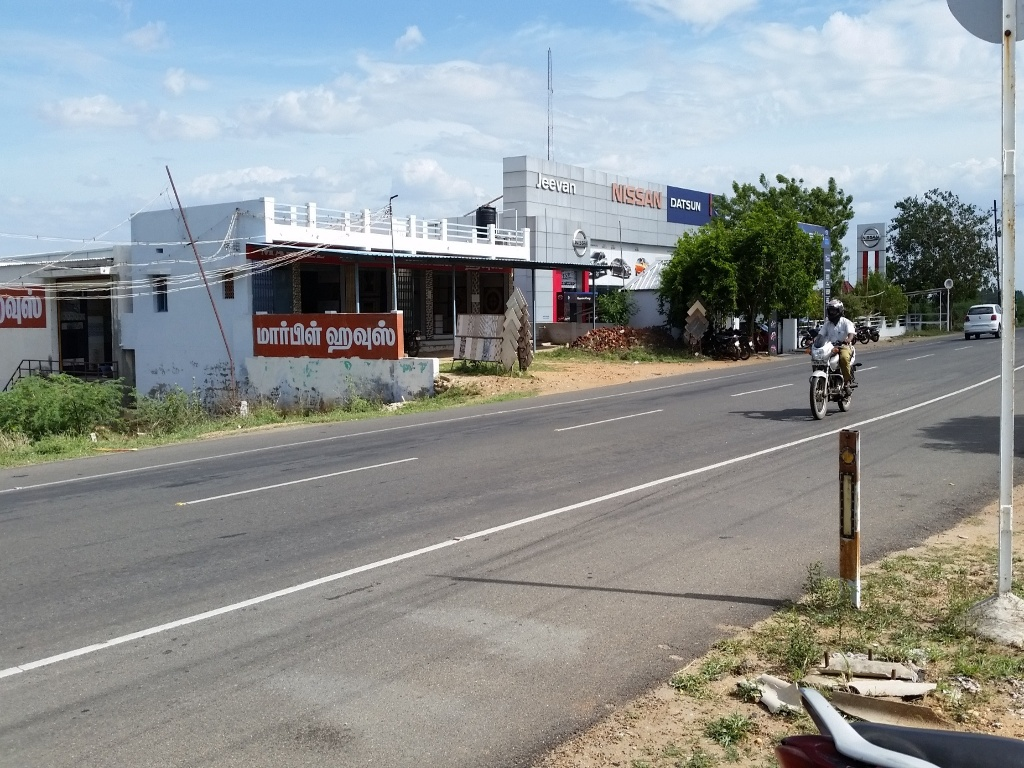biker: (792, 276, 882, 428)
helmet: (822, 288, 851, 332)
